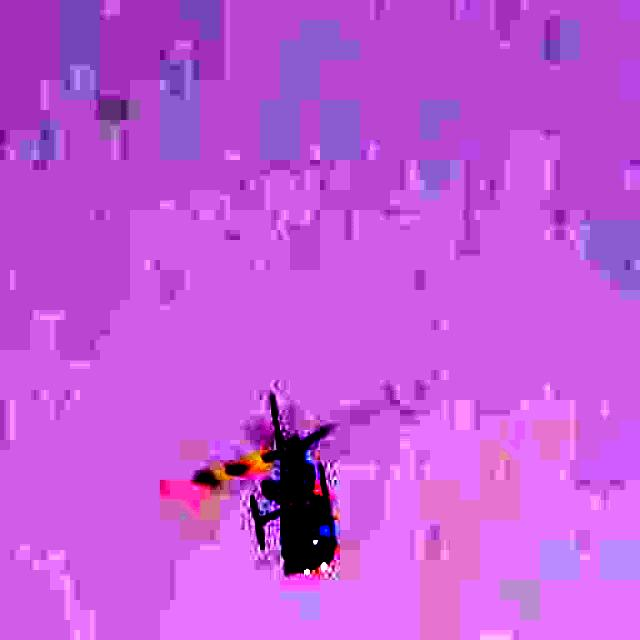drone: (154, 334, 418, 630)
